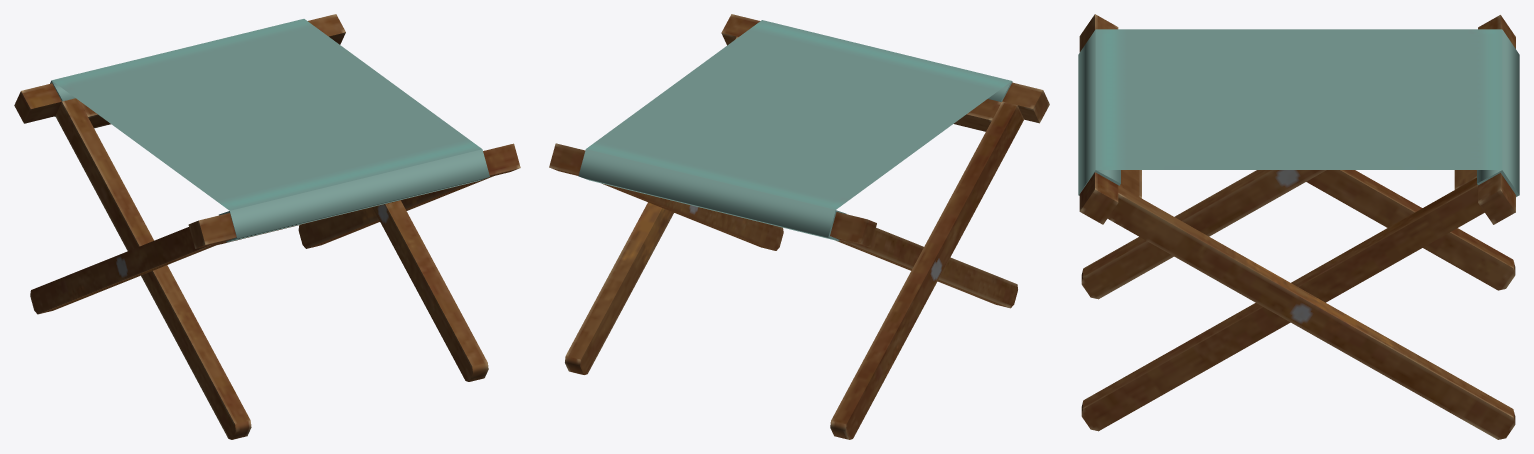
File: pi_chair01_dlc1_03_05.gltf
3 renders of one model, left to right at view 1: azimuth 30°, elevation 25°; view 2: azimuth 150°, elevation 25°; view 3: azimuth 270°, elevation 25°, orthographic. The views are drawn at different scales.
Parts seen in each view (by area): view 1: pi_chair01_dlc1_03_05_mesh_shape:pi_chair01_dlc1_10_main; view 2: pi_chair01_dlc1_03_05_mesh_shape:pi_chair01_dlc1_10_main; view 3: pi_chair01_dlc1_03_05_mesh_shape:pi_chair01_dlc1_10_main.
Boxes of the visible parts, x1,y1,x2,y2 form: pi_chair01_dlc1_03_05_mesh_shape:pi_chair01_dlc1_10_main: (14,14,520,439); pi_chair01_dlc1_03_05_mesh_shape:pi_chair01_dlc1_10_main: (549,14,1049,439); pi_chair01_dlc1_03_05_mesh_shape:pi_chair01_dlc1_10_main: (1078,14,1519,439).
Size of what is drawn, in the model's own units: 0.4989 by 0.3463 by 0.53.
1 material, 1 textured.
